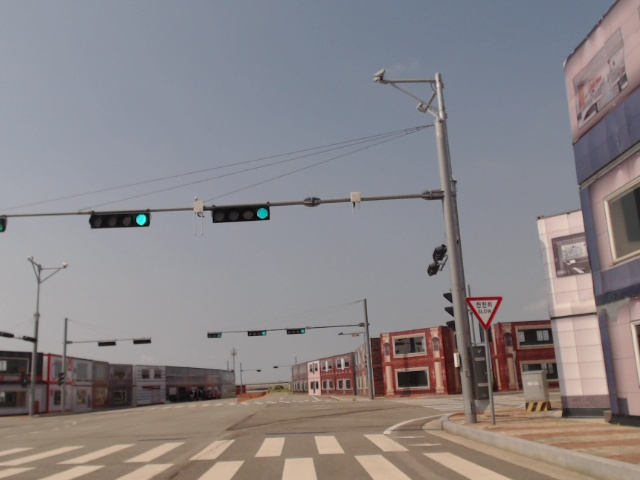straight_green_4: (213, 203, 270, 224), (90, 210, 151, 229), (248, 330, 267, 336), (286, 330, 305, 334)
